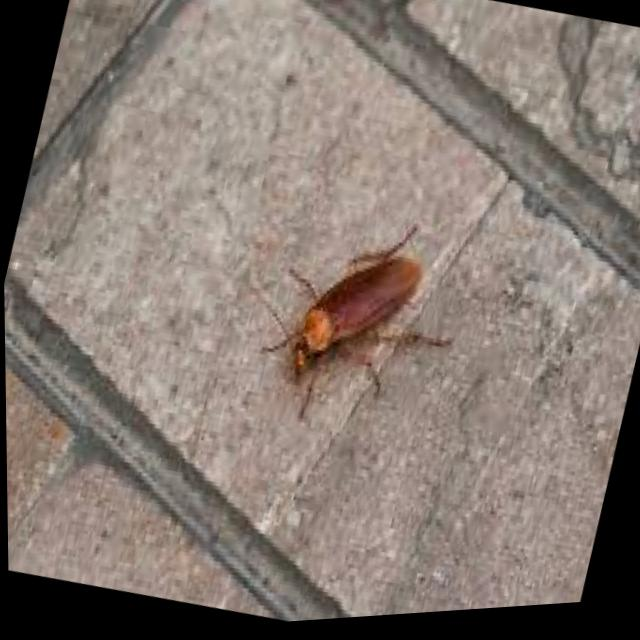Cockroach: (228, 180, 491, 479)
